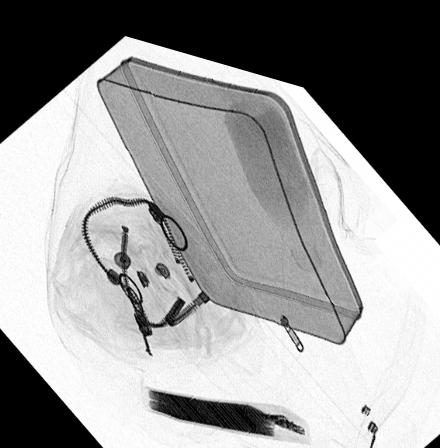Powerbank: (143, 377, 310, 425)
